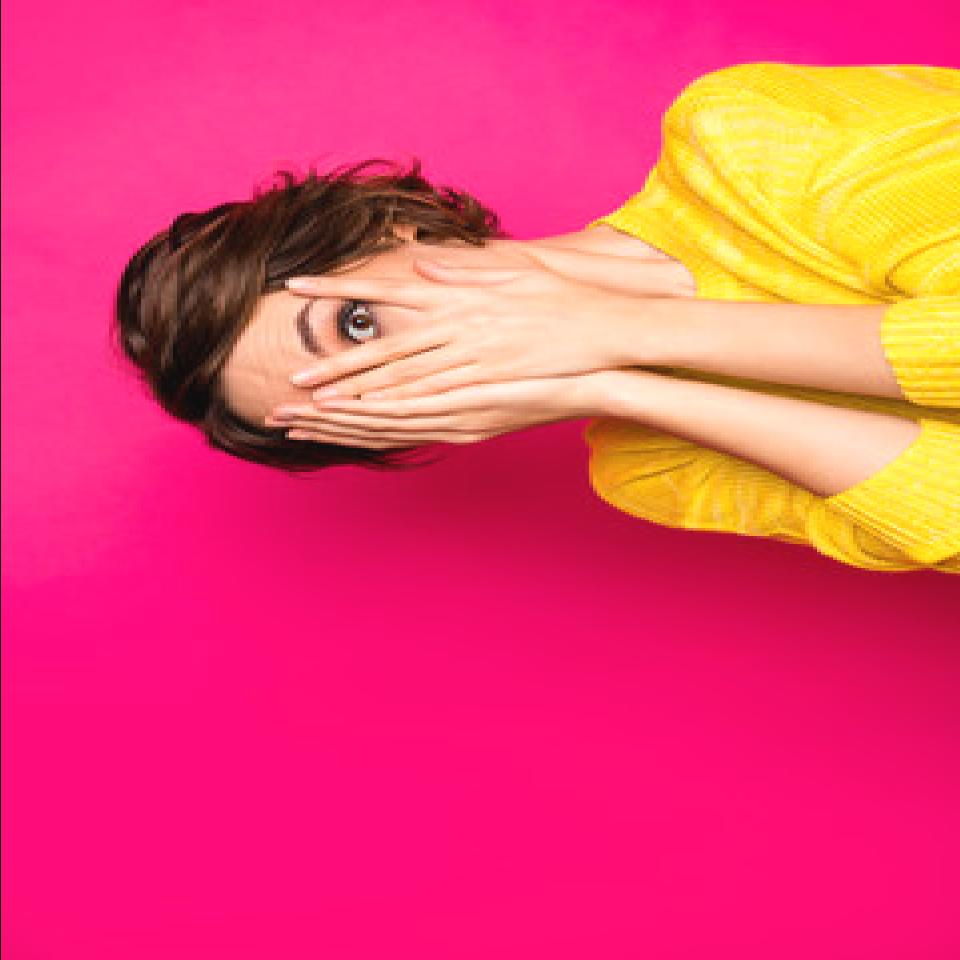Scared: (241, 216, 605, 447)
